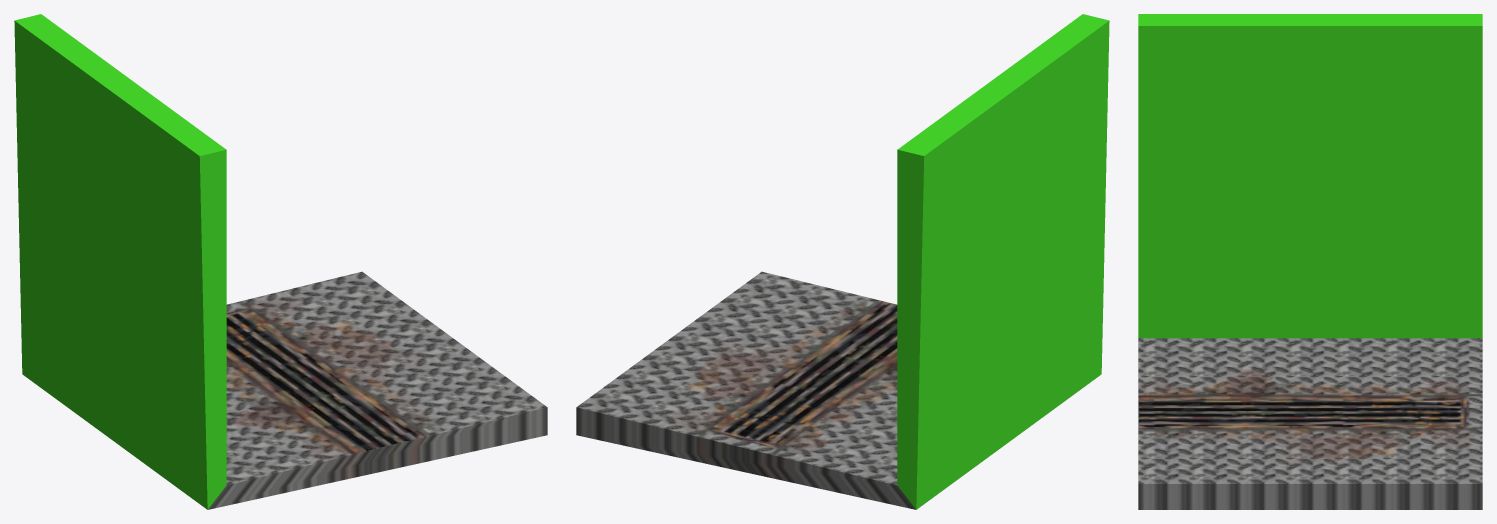
Rendered from FloorTile.002.fbx.
3 renders of one model, left to right at view 1: azimuth 30°, elevation 25°; view 2: azimuth 150°, elevation 25°; view 3: azimuth 270°, elevation 25°, orthographic. The views are drawn at different scales.
Parts seen in each view (by area): view 1: FloorTile.002; view 2: FloorTile.002; view 3: FloorTile.002.
Boxes of the visible parts, bbox=[...] form: FloorTile.002: bbox=[14, 14, 547, 509]; FloorTile.002: bbox=[576, 14, 1109, 509]; FloorTile.002: bbox=[1138, 14, 1482, 509].
Size of the model in its own units: 650 by 650 by 600.
